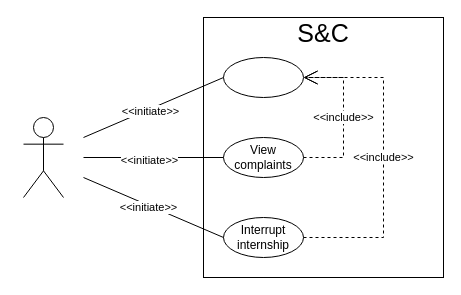
Some shapes in this 461 by 295 pixel diagram are drawn without their labels. Each missing label, with the box of its shape:
Login: (222, 56, 304, 98)
University: (22, 116, 64, 198)
